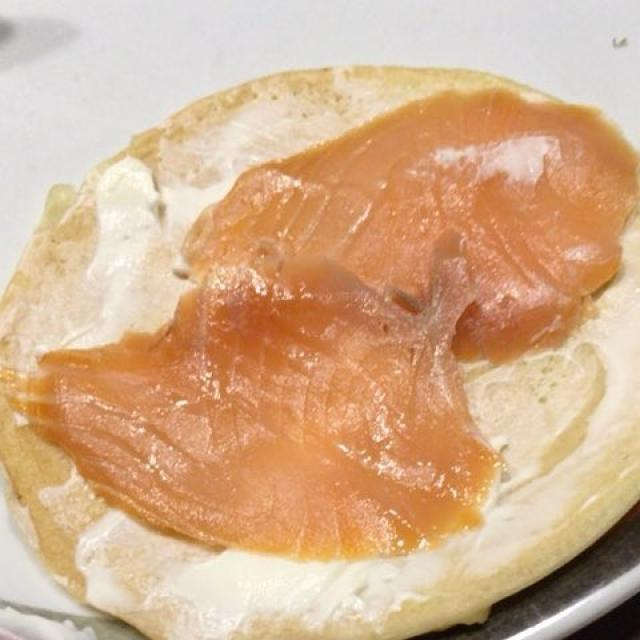cream-cheese: (46, 101, 623, 597)
salmon: (52, 90, 628, 574)
